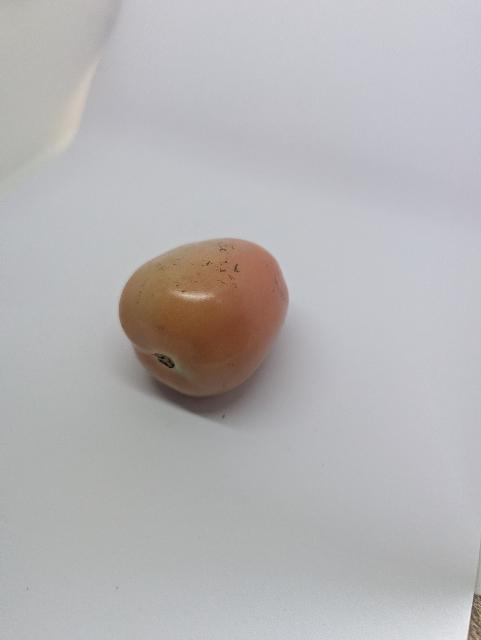turning: (113, 230, 307, 408)
